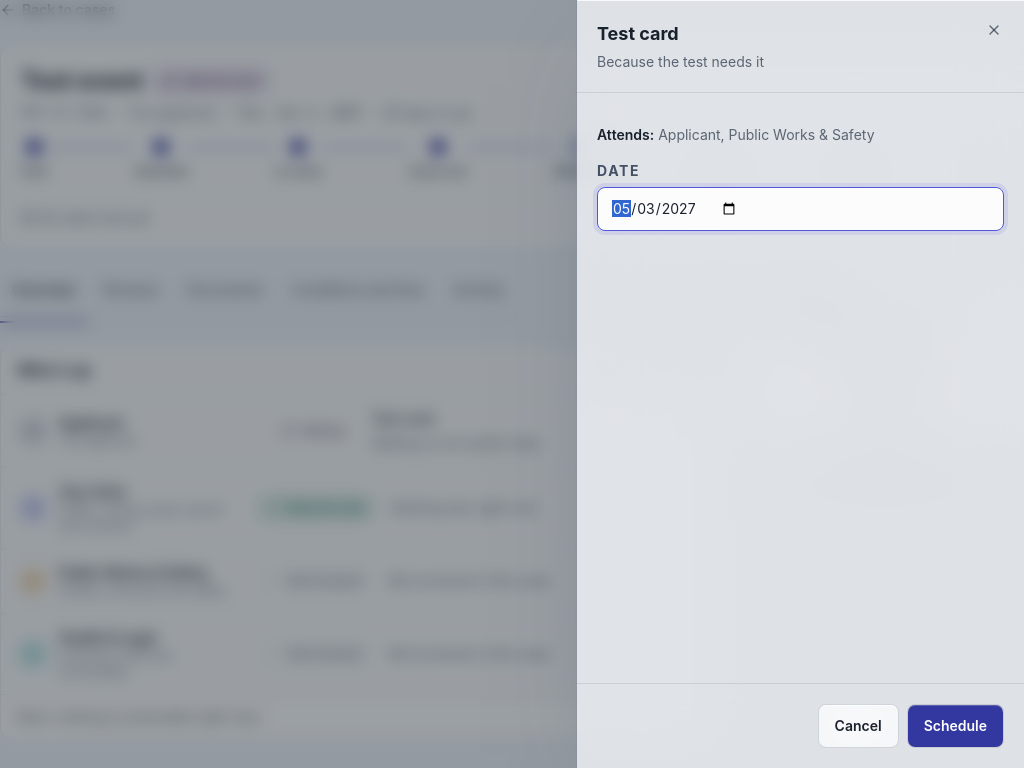
Test case: /city/work-orders: Walkthroughs and meetings › scheduling a walkthrough through the hand-off refuses a date after the event, with the engine's reason
Expected: the element showing "Attends: Applicant, Public Works & Safety" is shown, [597, 126, 874, 143]
Type "2027-06-15" into the date field labelled "Date". click: (800, 209)
box: [597, 187, 1004, 231]
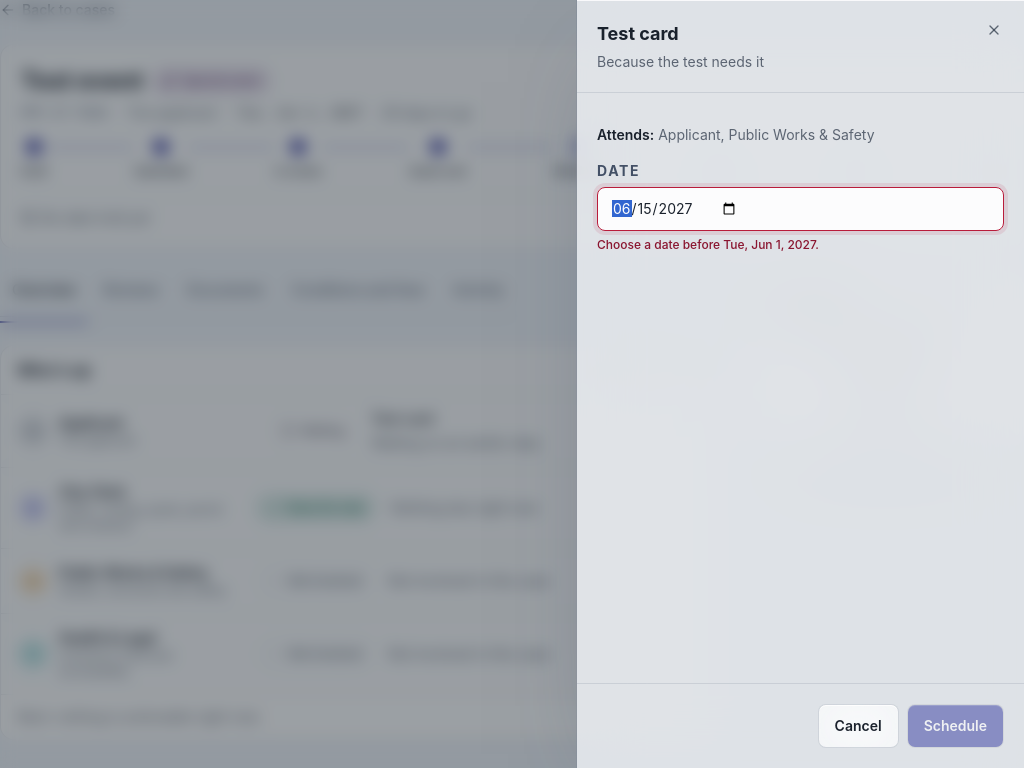
Expected: the text "Choose a date before Tue, Jun 1, 2027." is shown, [597, 237, 819, 252]
Expected: the button "Schedule" is disabled, [907, 704, 1004, 748]
